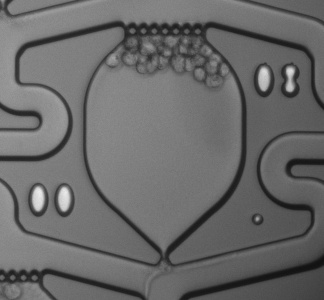AptNum: (250, 57, 310, 105)
Marker: (247, 209, 269, 230)
StNum: (21, 176, 85, 227)
Trap: (141, 255, 190, 300)
